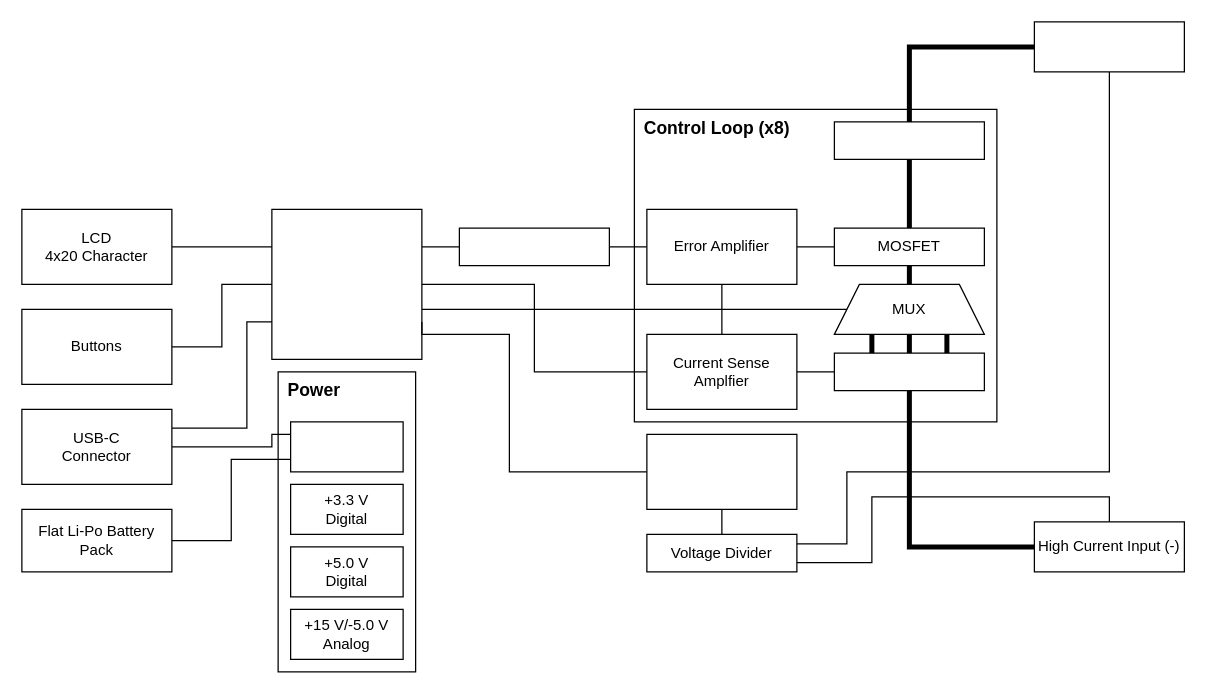
Image size: 1206x694. Some labels were removed from this diagram. Here are the shapes that lost their labels. From the top down, the centre of each, then its label:
At [1108,46]: "High Current Input (+)".
At [908,140]: "Ballast Resistors".
At [533,246]: "DAC8830".
At [346,283]: "MCU STM32G474VET6".
At [908,371]: "Current Shunts".
At [346,446]: "Li-Po Charger IC".
At [721,471]: "Voltage Sense Amplifier".
